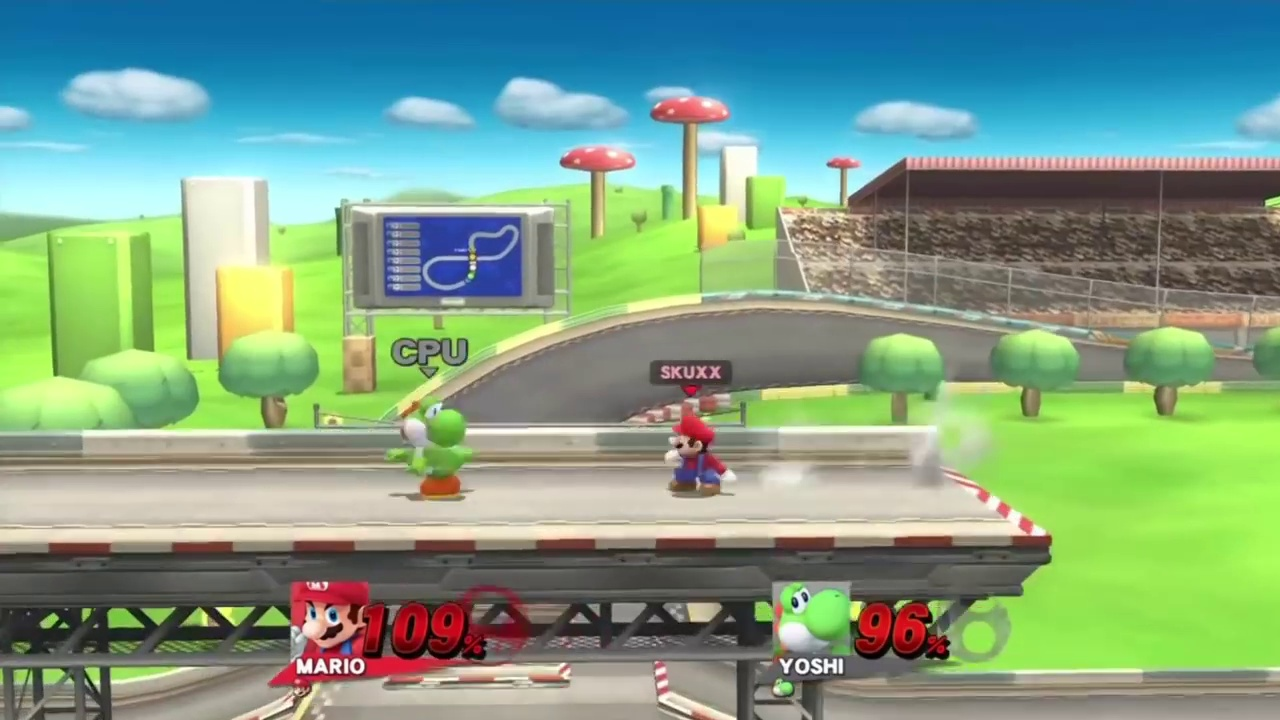Mario: (663, 416, 736, 495)
